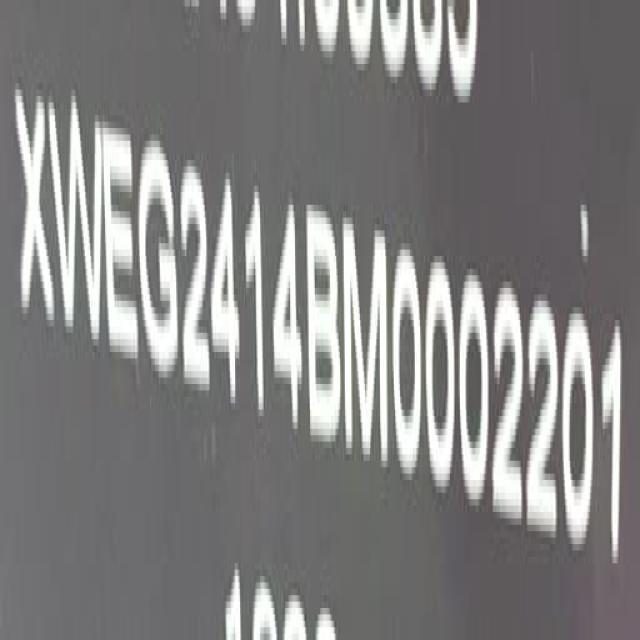0: (560, 308, 595, 552), (393, 233, 426, 483), (460, 262, 492, 508), (426, 252, 457, 499)
1: (244, 176, 266, 429), (602, 319, 624, 566)
2: (527, 291, 560, 541), (492, 287, 526, 529), (182, 154, 214, 400)
4: (273, 187, 306, 444), (211, 164, 243, 418)
B: (306, 199, 342, 458)
E: (104, 114, 139, 372)
G: (136, 131, 178, 391)
M: (342, 213, 390, 474)
W: (48, 80, 106, 358)
X: (15, 72, 56, 347)
